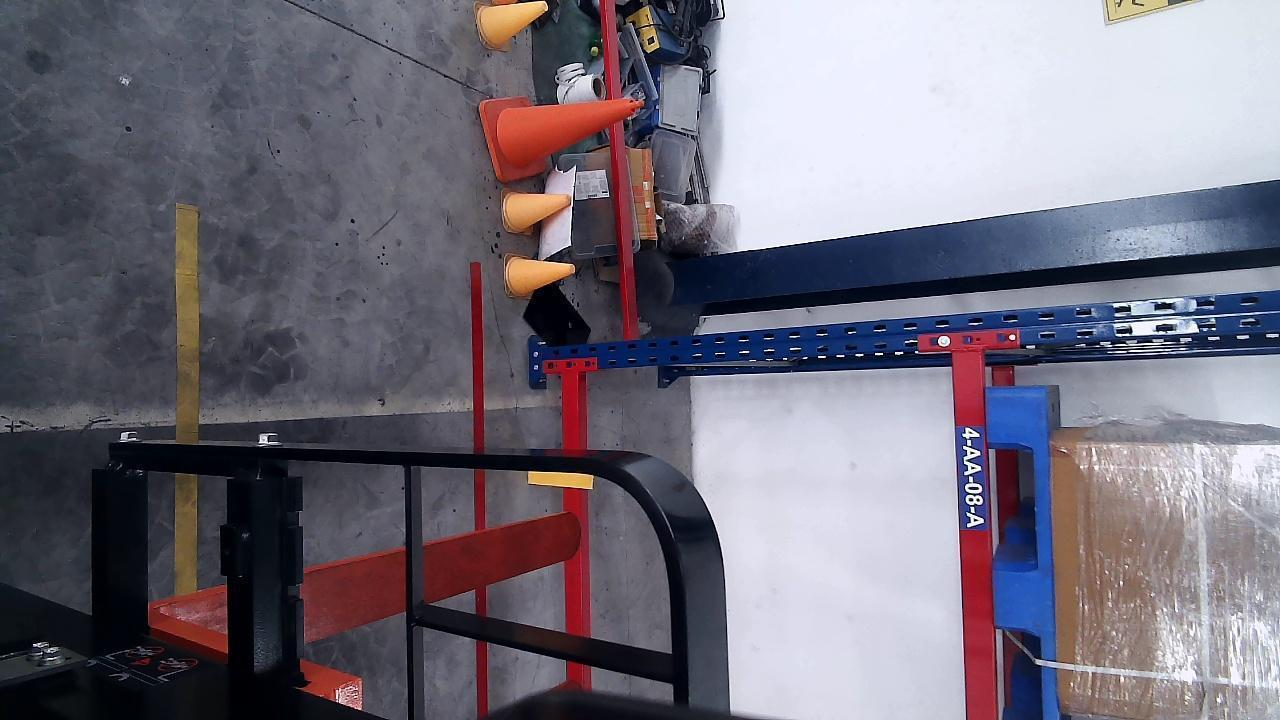red_line: (467, 258, 490, 720)
yellow_line: (175, 203, 199, 593)
